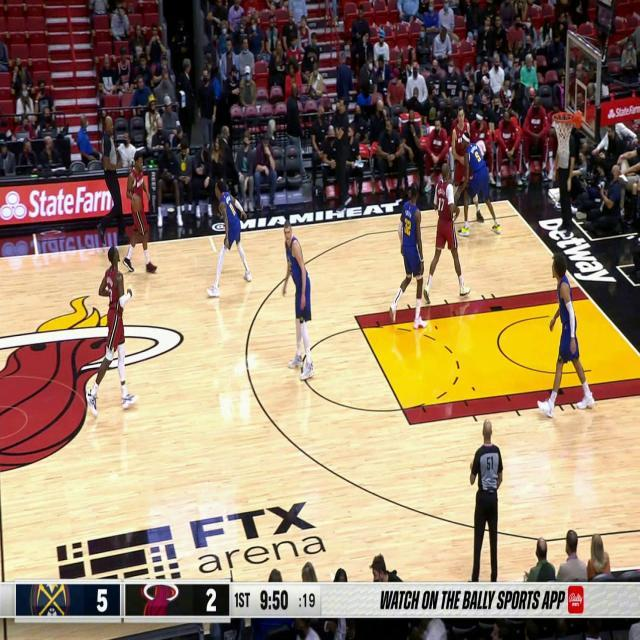rim: (131, 194, 142, 214)
